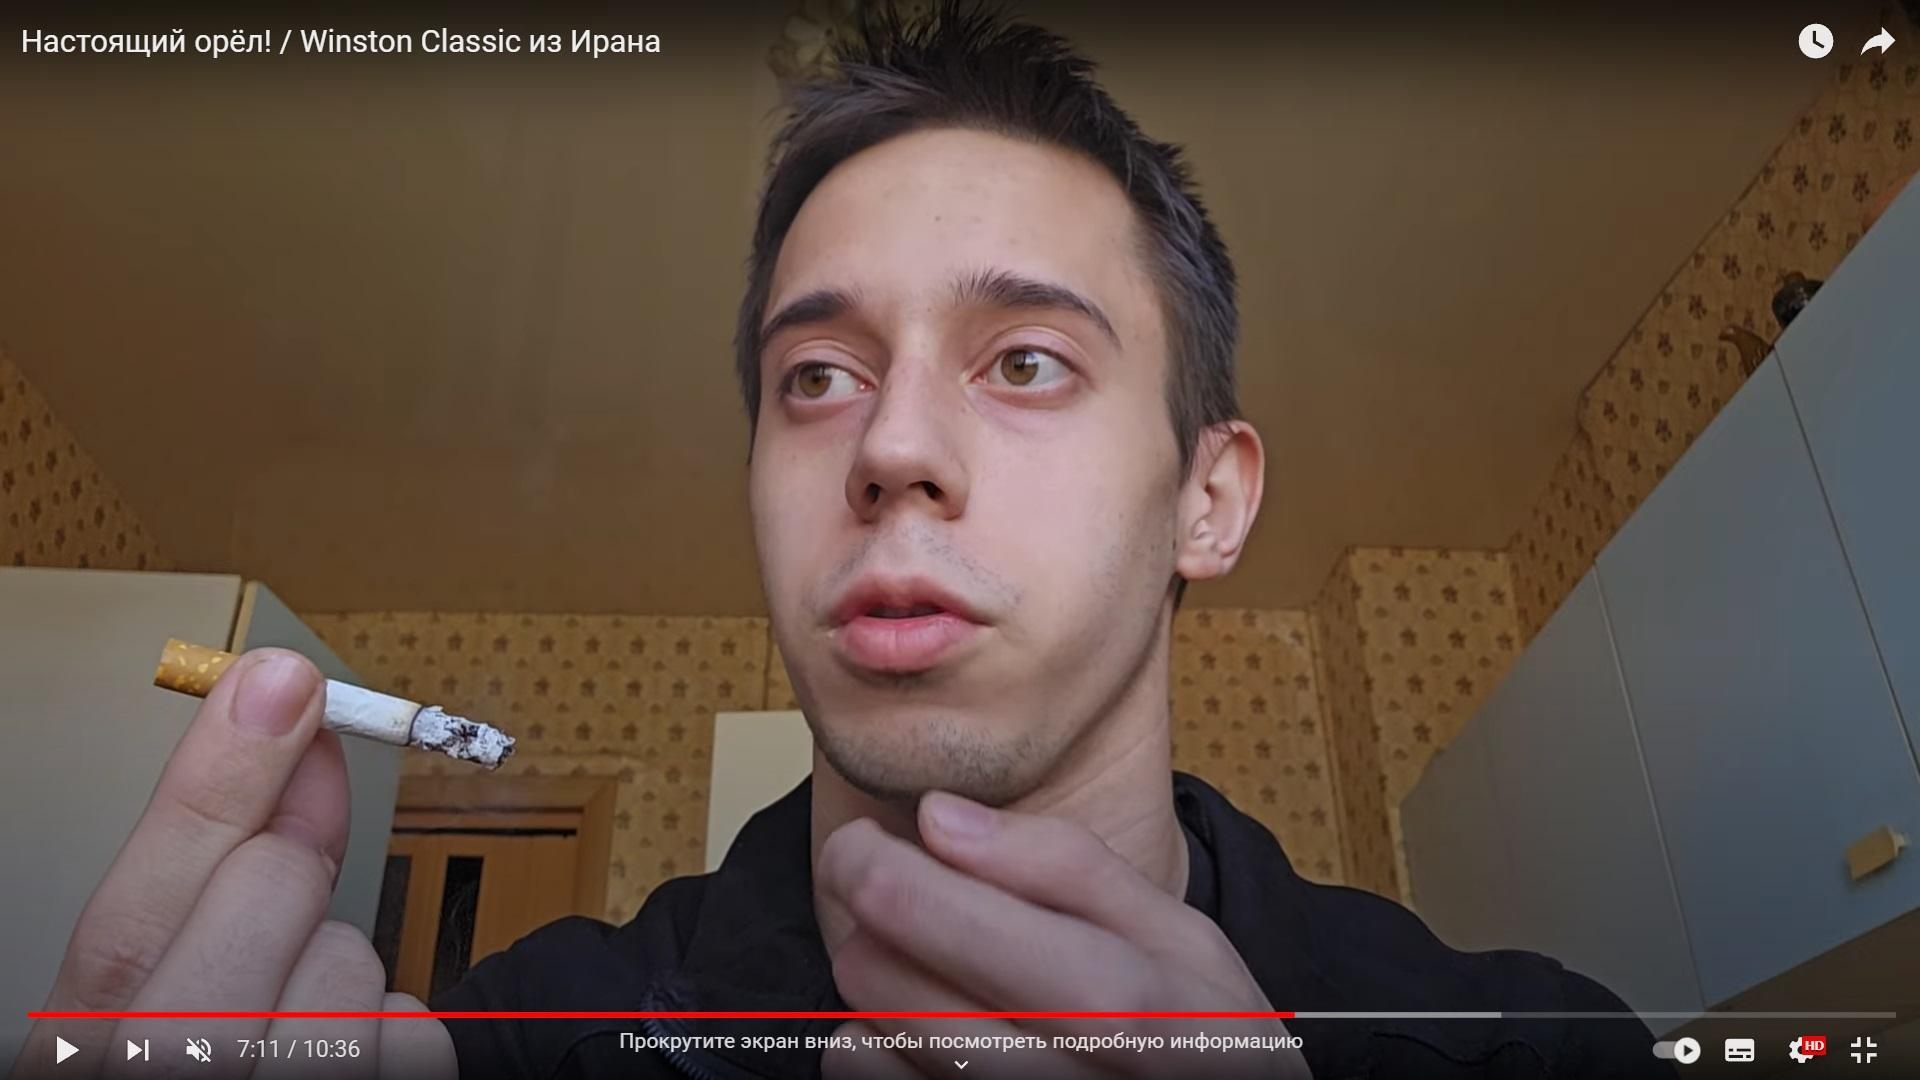cigarette: (154, 637, 518, 770)
